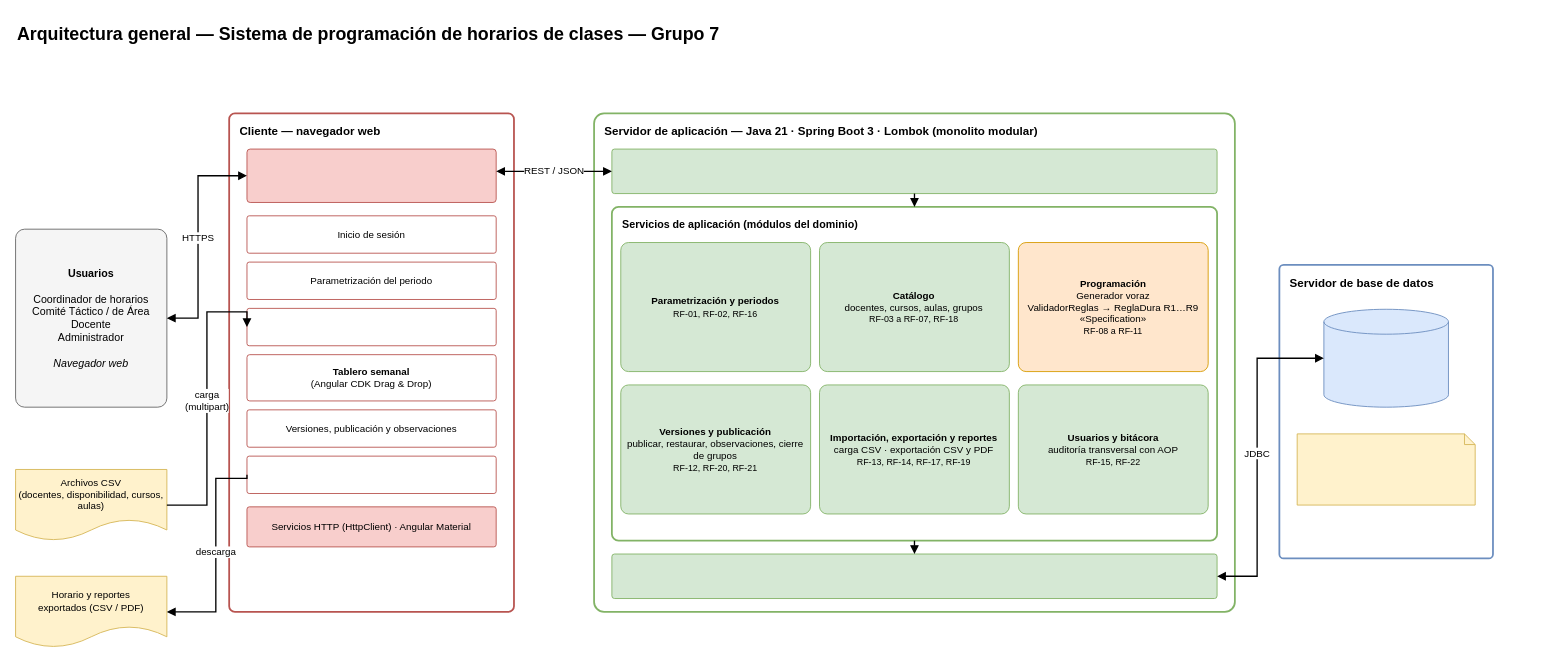
Image size: 1544x663. Some labels were removed from this diagram. The centre of each missing label's shape, as x and y in pixels:
"Angular SPA (TypeScript) Capa de presentación" belongs at pixel 371 175.
"API REST — controladores (@RestController) · DTO · validación (Bean Validation)" belongs at pixel 914 171.
"Catálogo y carga de CSV" belongs at pixel 371 326.
"MySQL 8 esquema horarios" belongs at pixel 1385 357.
"Persistencia — Spring Data JPA (Repository) · Hibernate" belongs at pixel 914 576.
"Reportes y exportación" belongs at pixel 371 474.
"Restricciones UNIQUE: (versión, docente, bloque) (versión, aula, bloque) RNF-09" belongs at pixel 1385 469.
